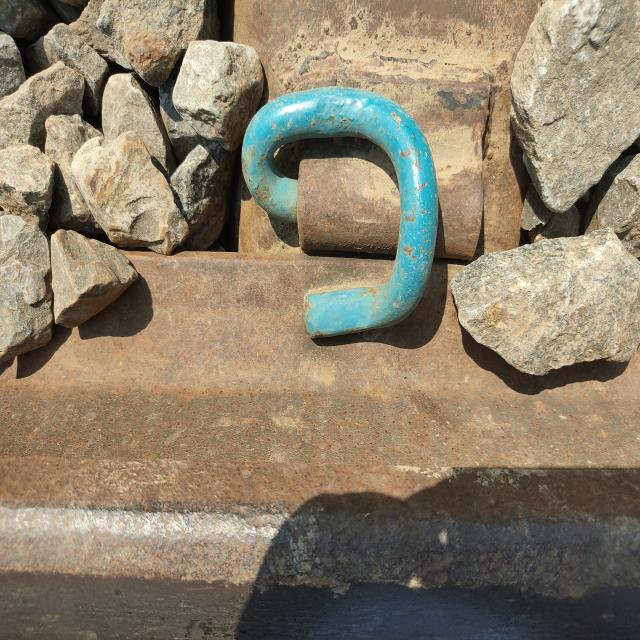No Fault: (247, 62, 458, 352)
